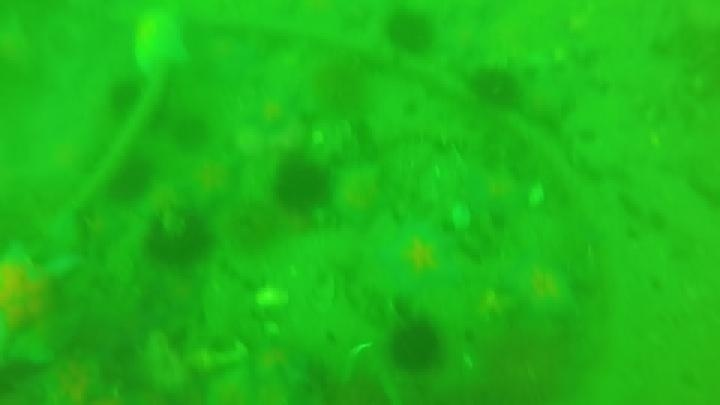echinus: (143, 209, 214, 269), (272, 156, 332, 215), (388, 320, 443, 374), (314, 64, 367, 117), (384, 10, 436, 56), (106, 156, 156, 203), (469, 67, 522, 109), (105, 78, 144, 119), (170, 114, 211, 152)
holothurian: (377, 117, 480, 154)
starfish: (1, 234, 82, 366), (374, 217, 461, 292), (499, 254, 580, 323), (18, 350, 115, 405), (326, 165, 393, 231), (130, 10, 192, 80), (459, 162, 530, 223), (173, 154, 244, 213), (243, 91, 299, 136)
